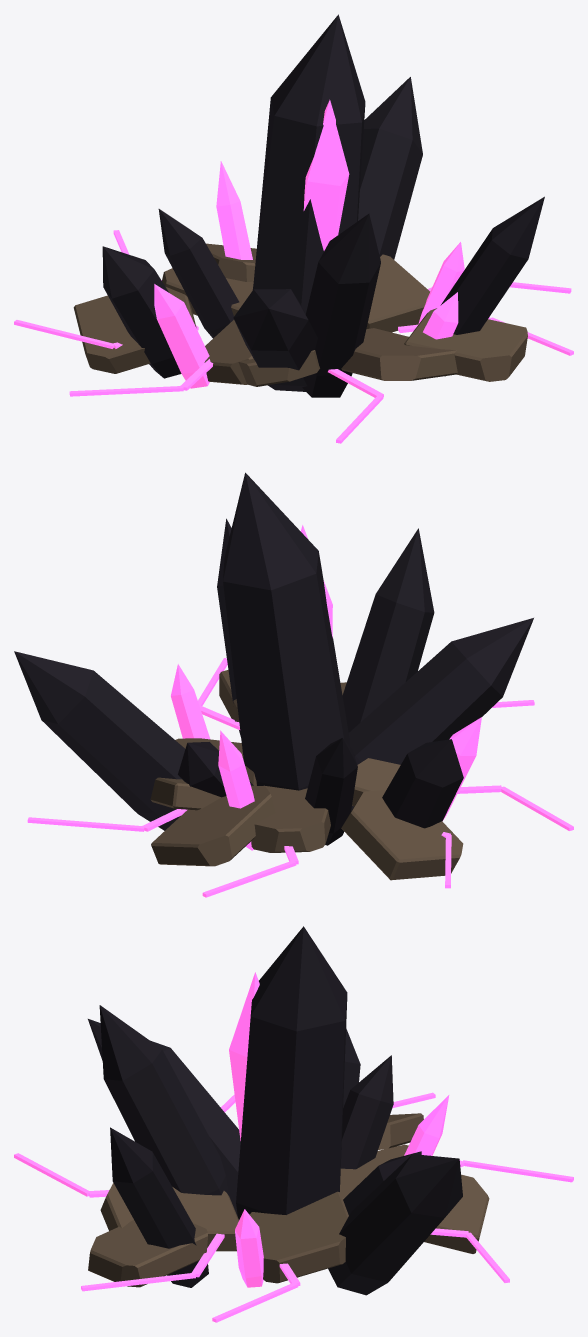
File: zr_glass_growth.glb
3 renders of one model, top to bottom at view 1: azimuth 30°, elevation 25°; view 2: azimuth 150°, elevation 25°; view 3: azimuth 270°, elevation 25°, orthographic. The views are drawn at different scales.
Visible parts, largest first — view 1: zr_glass_growth; view 2: zr_glass_growth; view 3: zr_glass_growth.
Boxes of the visible parts, box(x1,y1,x2,y2) form: zr_glass_growth: box(14, 14, 573, 443); zr_glass_growth: box(14, 472, 573, 897); zr_glass_growth: box(14, 926, 573, 1322).
Size of what is drawn, in the model's own units: 4.93 by 3.3 by 4.81.
